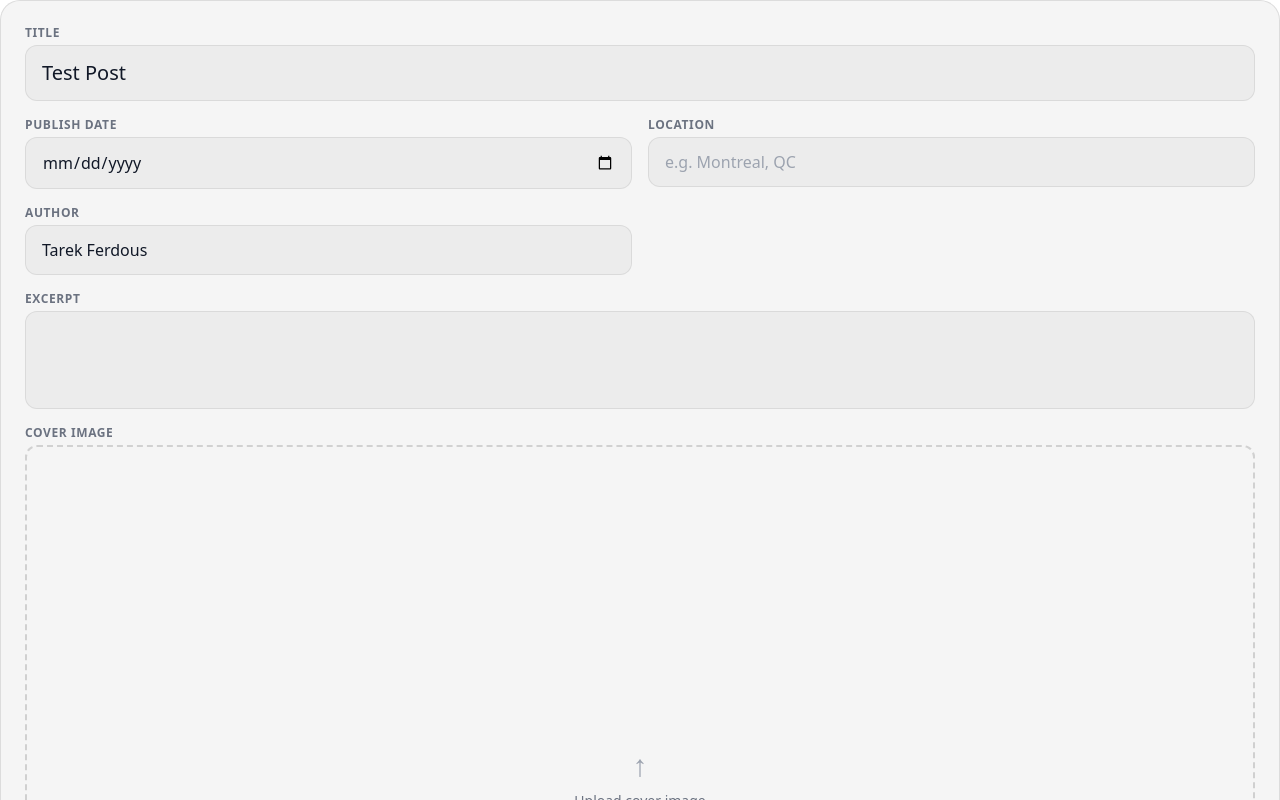
Test: PostEditorClient - excerpt, author, and cover image › persists entered excerpt and author text on save
Step 1. Type "A short excerpt" into the text box → (640, 360), box [25, 311, 1255, 409]
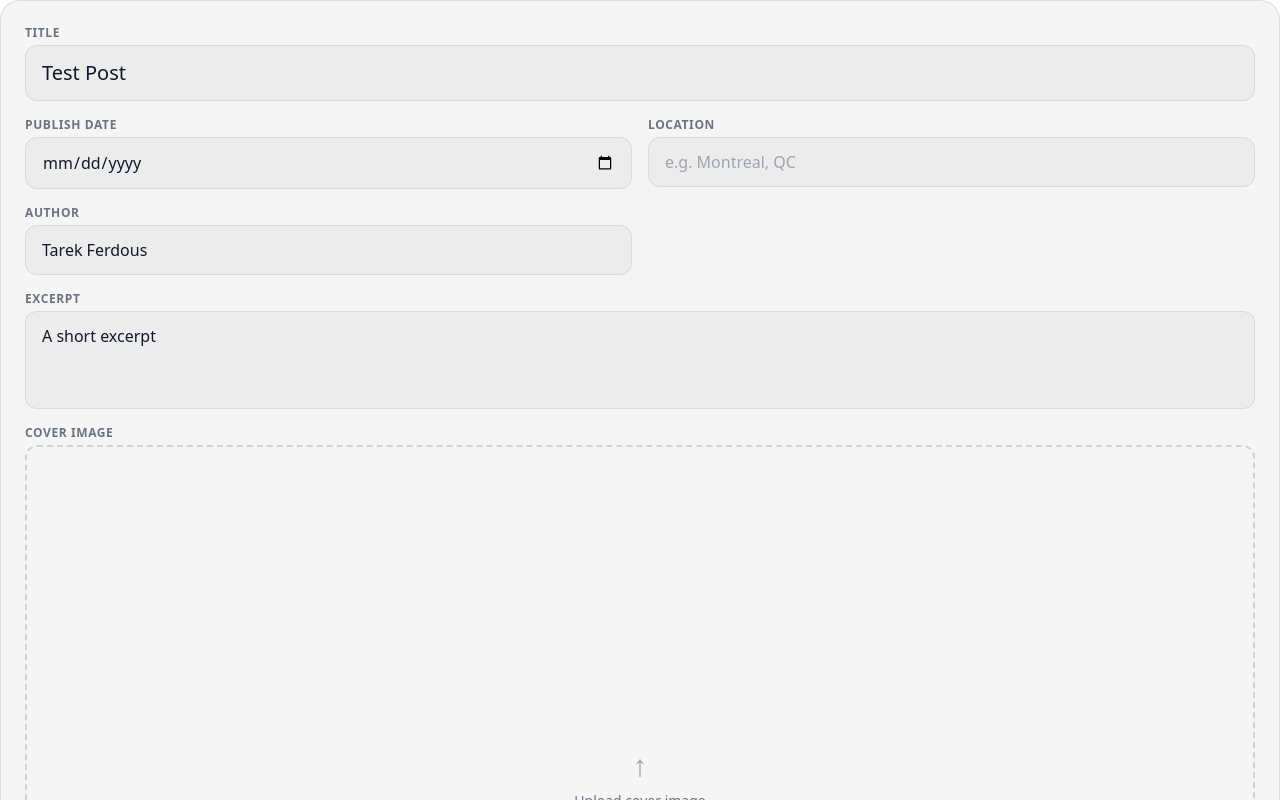
Step 2. Replace the text in the field below "Author" with "Jane Doe" → (328, 250), box [25, 225, 632, 275]
(page scrolled)
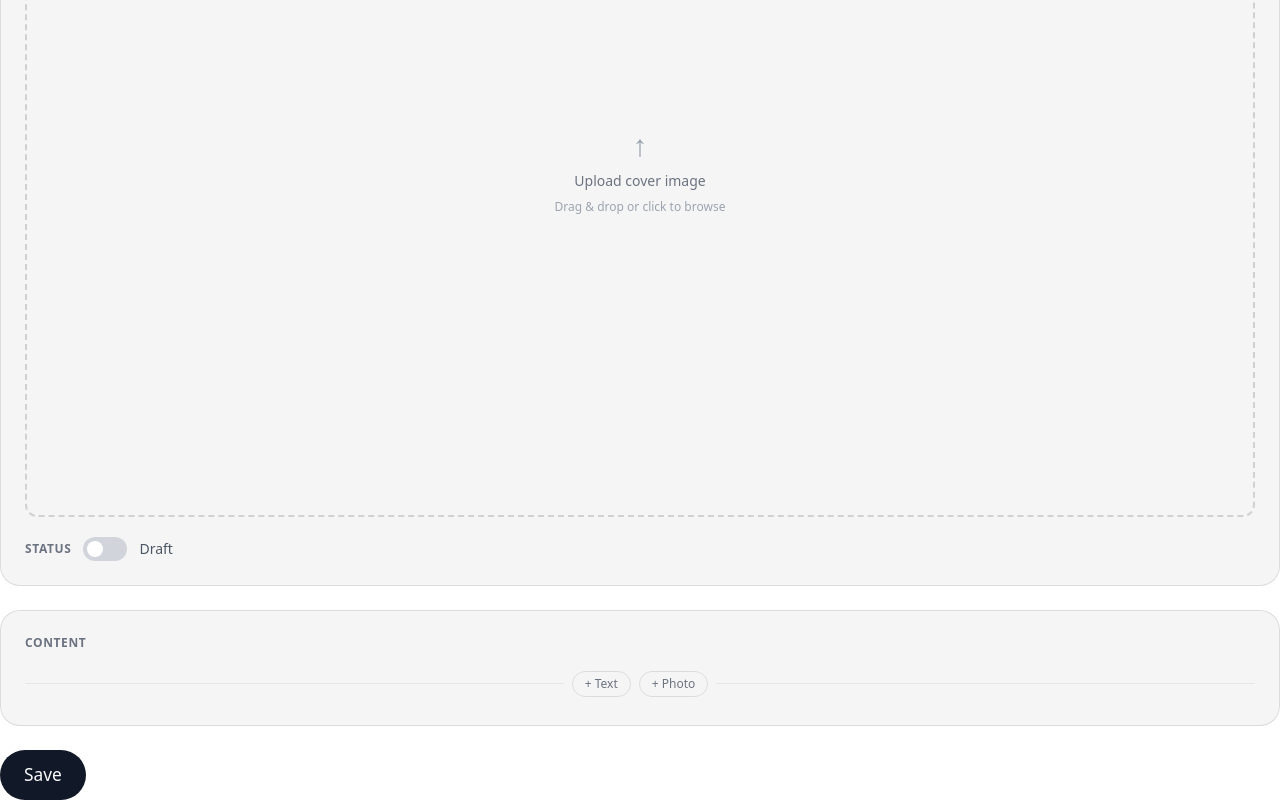
Step 3. Click the button "Save" → (43, 775), box [0, 750, 86, 799]
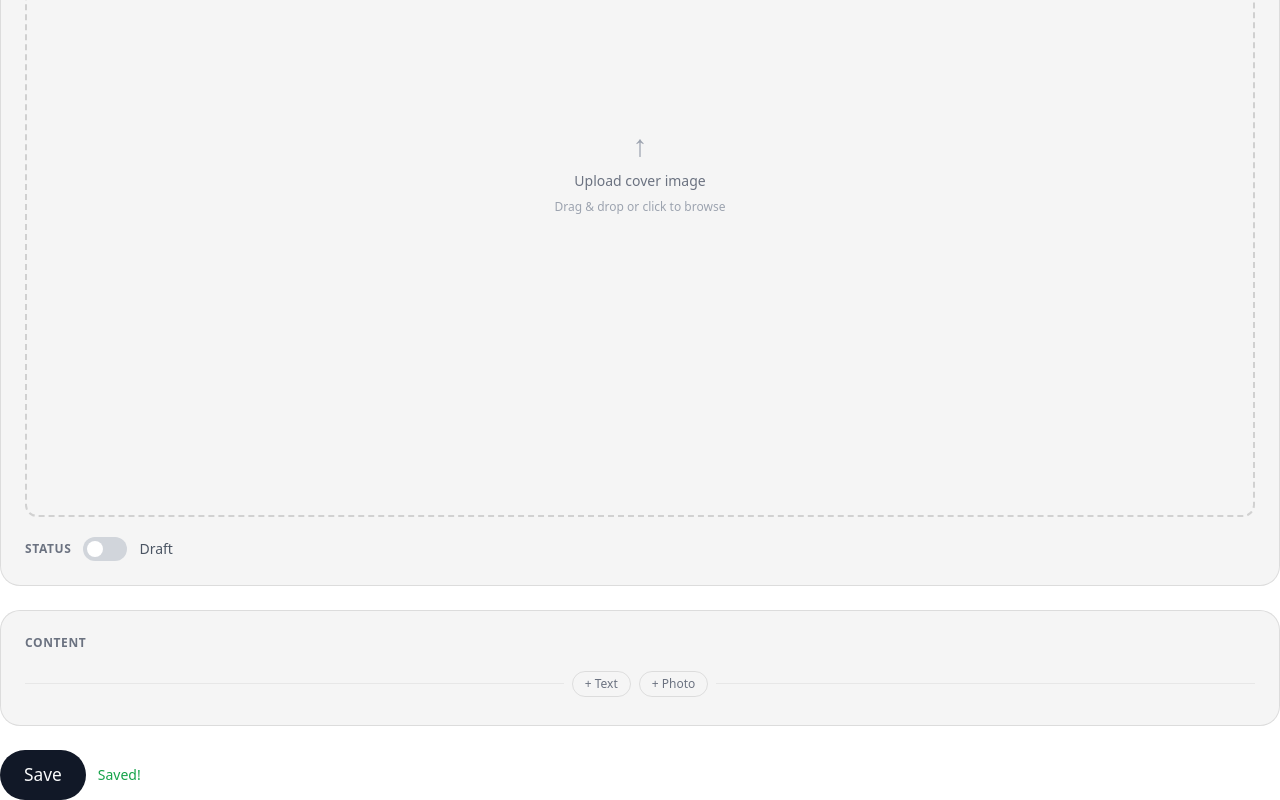
Check: the text "Saved!" is shown, box [98, 765, 141, 785]
